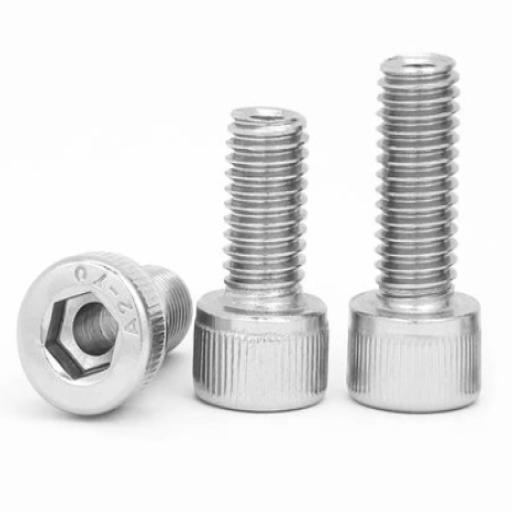Hex-Allen: (14, 254, 167, 419)
